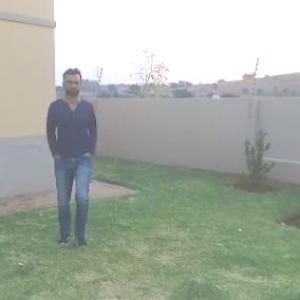follow: (44, 64, 102, 238)
